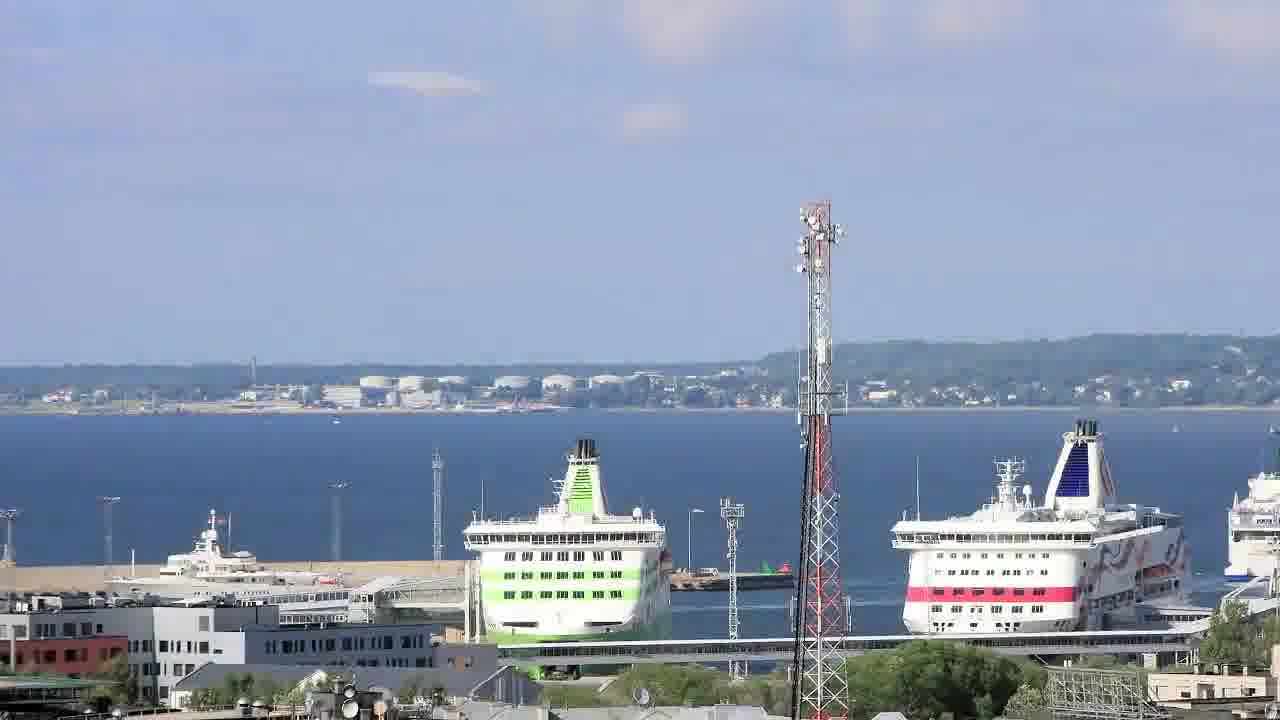type-3: (868, 415, 1225, 638), (436, 434, 694, 670), (89, 506, 355, 607), (1221, 408, 1279, 587)
